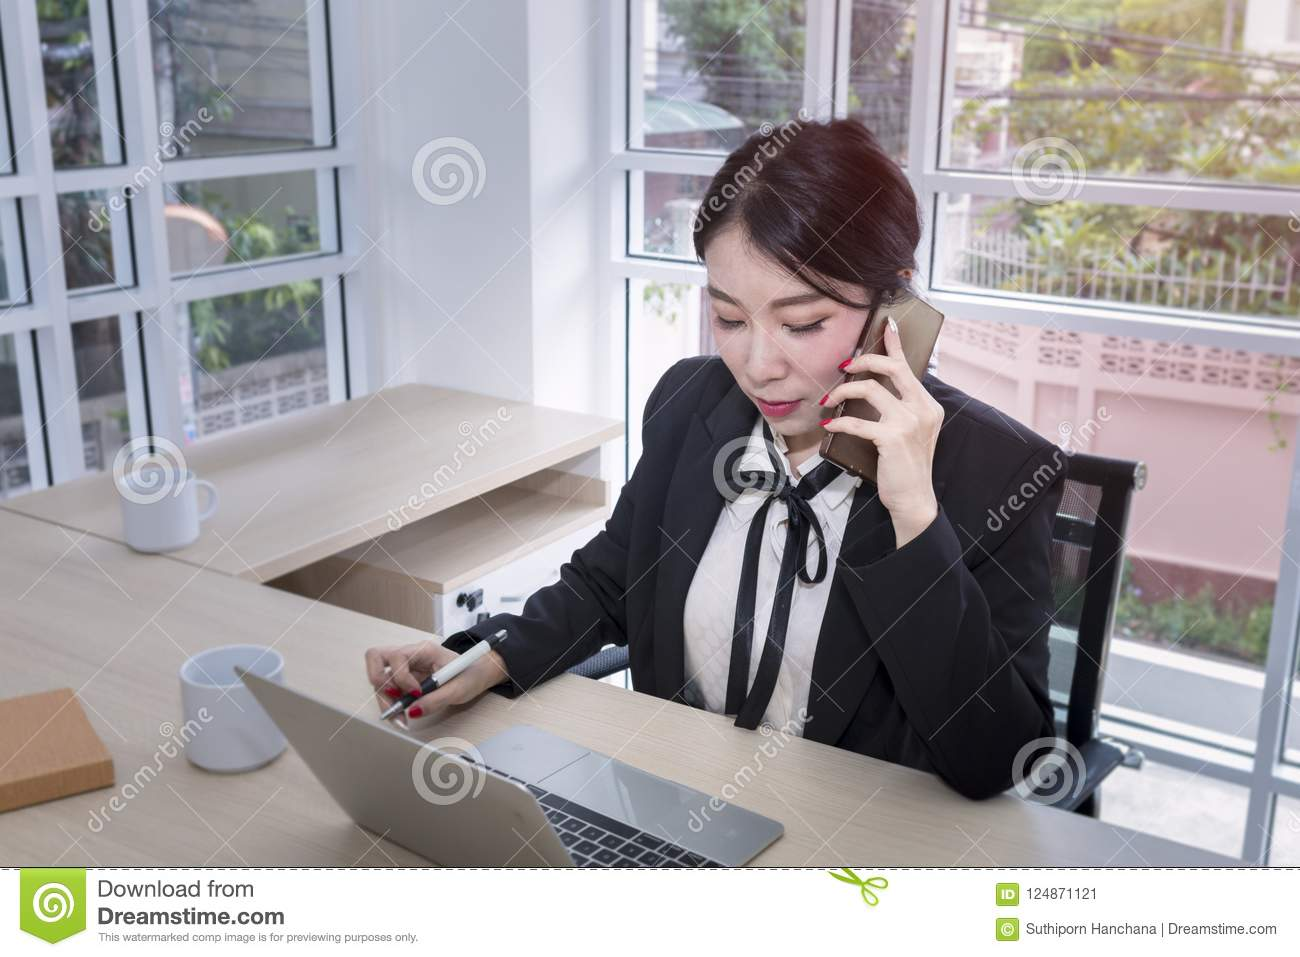phone: (823, 284, 943, 495)
talk: (709, 271, 956, 529)
